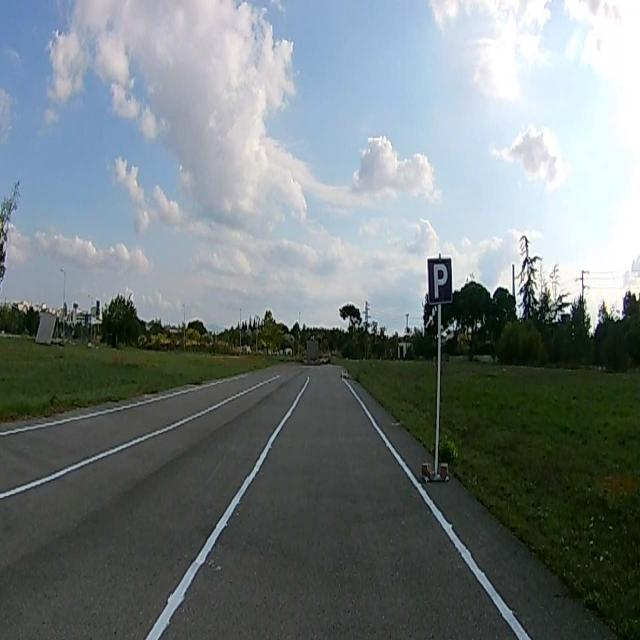park: (426, 259, 454, 302)
